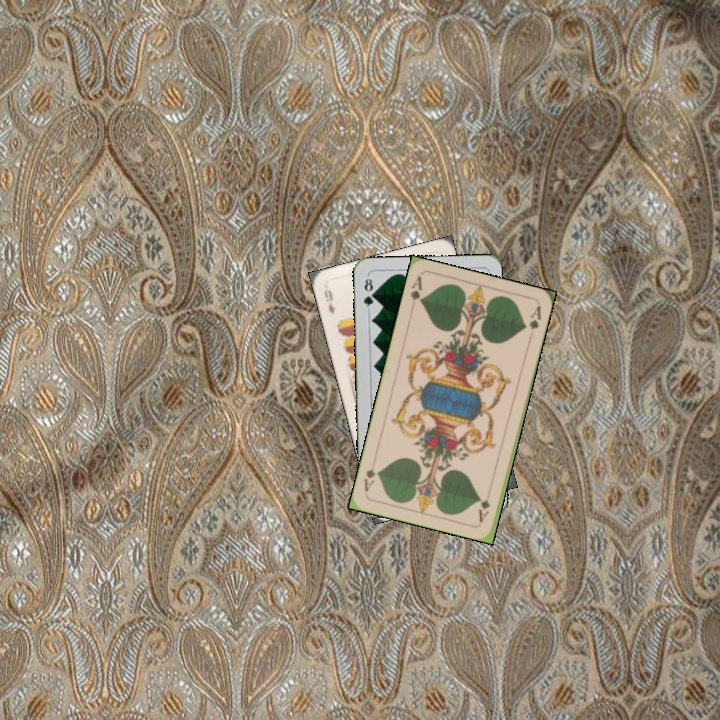E9: (320, 283, 338, 316)
G8: (359, 272, 377, 313)
GA: (475, 485, 494, 525), (406, 272, 425, 305)
